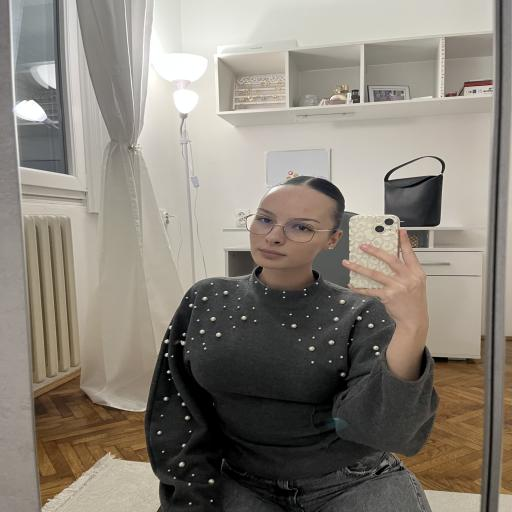marija: (246, 188, 334, 268)
